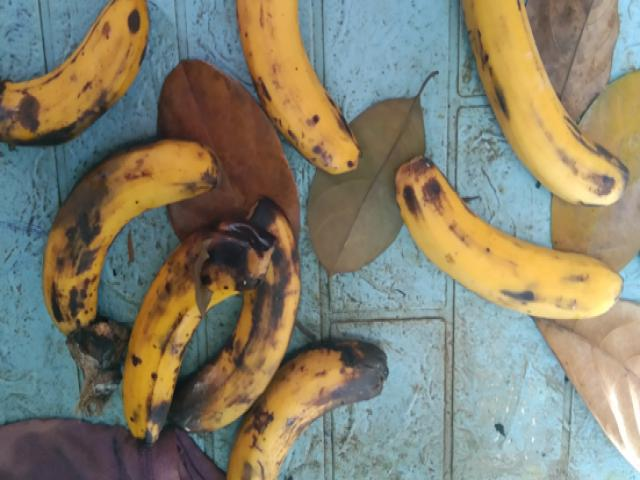ripe: (397, 154, 639, 347), (451, 1, 639, 209), (220, 0, 377, 189)
rotten: (39, 95, 208, 331), (104, 207, 243, 475), (0, 0, 166, 144), (227, 339, 387, 479)
